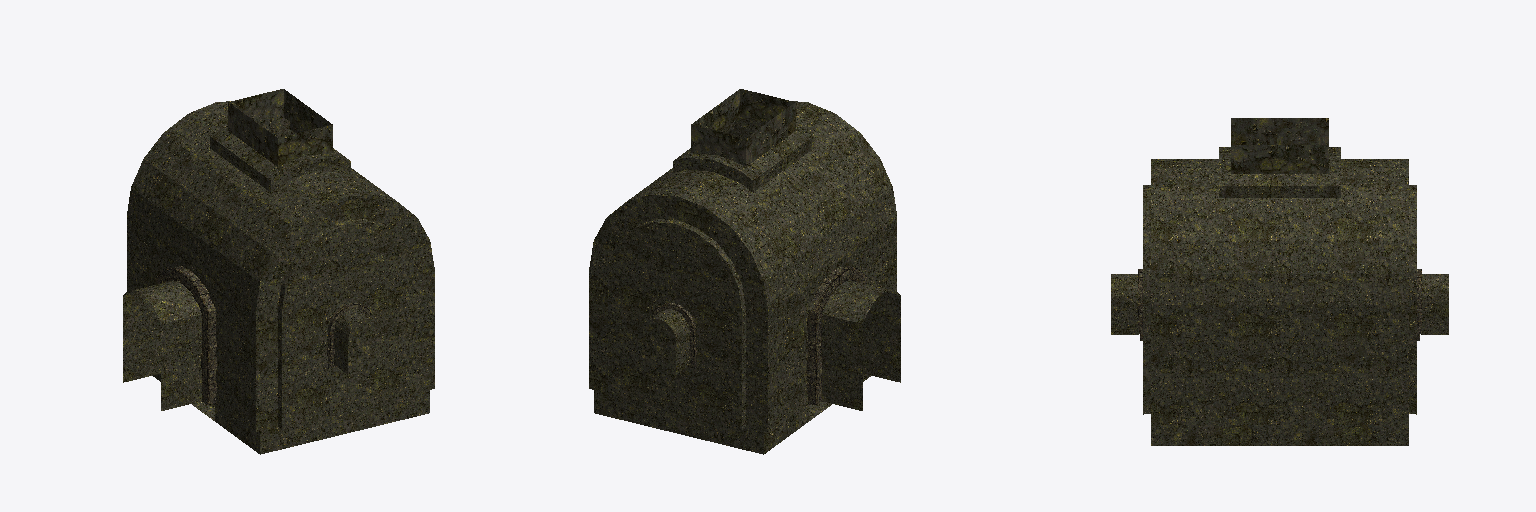
3 renders of one model, left to right at view 1: azimuth 30°, elevation 25°; view 2: azimuth 150°, elevation 25°; view 3: azimuth 270°, elevation 25°, orthographic.
Parts seen in each view (by area): view 1: mesh4, mesh0, mesh2; view 2: mesh4, mesh0, mesh2; view 3: mesh4, mesh0, mesh2.
Part boxes in pixels (left/top/right/bottom): mesh4: left=123, top=101, right=415, bottom=431; mesh0: left=153, top=89, right=434, bottom=454; mesh2: left=156, top=266, right=371, bottom=404; mesh4: left=608, top=101, right=900, bottom=431; mesh0: left=589, top=89, right=870, bottom=454; mesh2: left=652, top=266, right=866, bottom=404; mesh4: left=1111, top=159, right=1448, bottom=424; mesh0: left=1143, top=118, right=1416, bottom=445; mesh2: left=1138, top=269, right=1421, bottom=340.
Bounding box in the file's own units: 5.1 × 5.84 × 6.53.
7 materials, 4 textured.